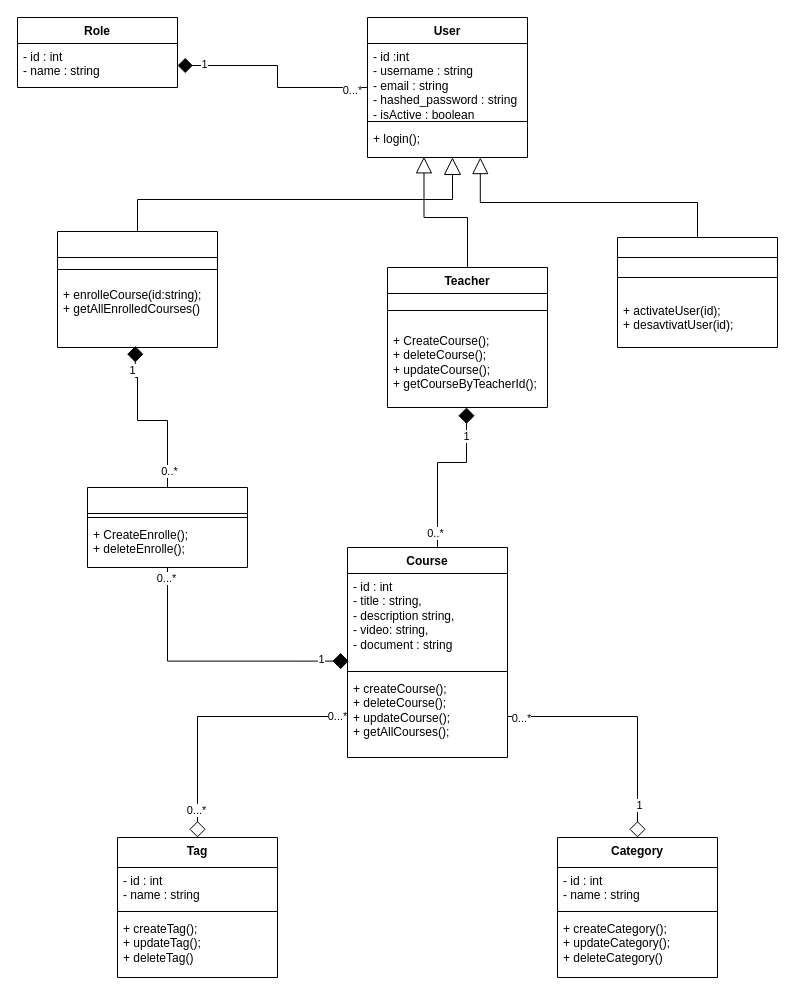
Some shapes in this 795 by 998 pixel diagram are drawn without their labels. Each missing label, with the box of its shape:
Admin: (616, 236, 778, 348)
Enrollement: (86, 486, 248, 568)
Student: (56, 230, 218, 348)
